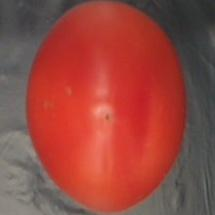unripe: (21, 2, 191, 215)
